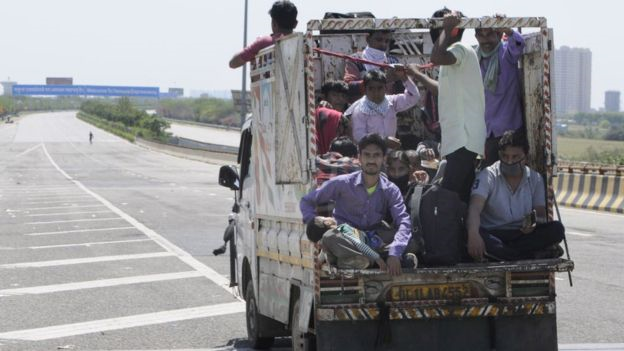mask_weared_incorrect: (363, 24, 395, 58), (361, 74, 390, 111)
with_mask: (495, 143, 530, 177)
without_mask: (362, 143, 384, 174), (477, 25, 499, 51)
